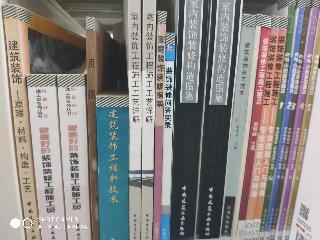book-spine: (189, 0, 242, 240), (165, 0, 210, 240), (276, 1, 320, 240), (270, 1, 312, 240), (264, 0, 305, 240), (257, 0, 296, 240), (3, 4, 40, 240), (281, 21, 320, 240), (251, 18, 288, 240), (244, 17, 280, 239), (220, 15, 255, 239), (235, 16, 270, 239), (230, 14, 262, 240), (28, 75, 66, 240), (58, 75, 90, 240), (98, 96, 128, 239), (139, 1, 156, 239), (153, 12, 166, 239), (161, 33, 175, 239), (129, 2, 141, 240), (87, 17, 99, 239)
